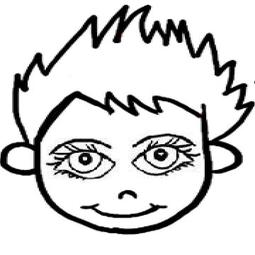ear: (203, 140, 249, 178), (1, 140, 41, 179)
eye: (128, 138, 199, 180), (47, 144, 116, 183)
eyebrow: (46, 136, 116, 151), (129, 132, 198, 147)
mouth: (78, 201, 172, 221)
nose: (114, 183, 142, 202)
